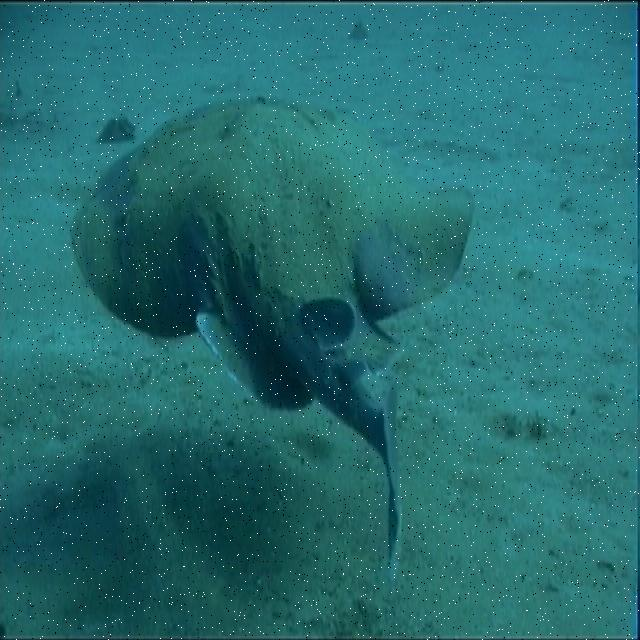fish: (71, 102, 474, 577)
